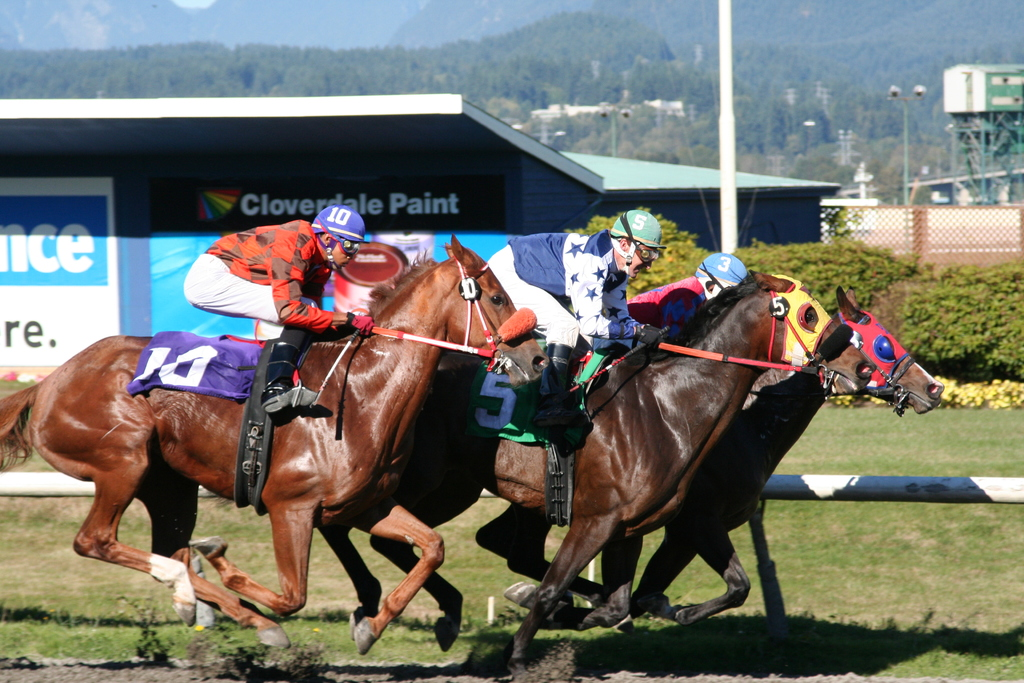Person: (183, 203, 376, 413), (486, 209, 666, 425), (625, 249, 748, 339)
